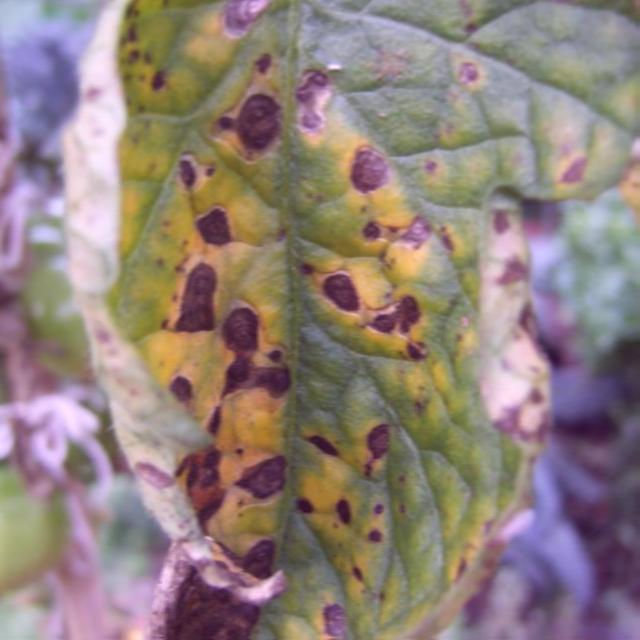Tomato Early blight leaf: (104, 0, 640, 633)
